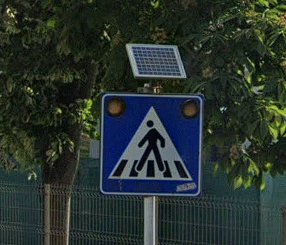trecere_pietoni: (95, 89, 209, 203)
